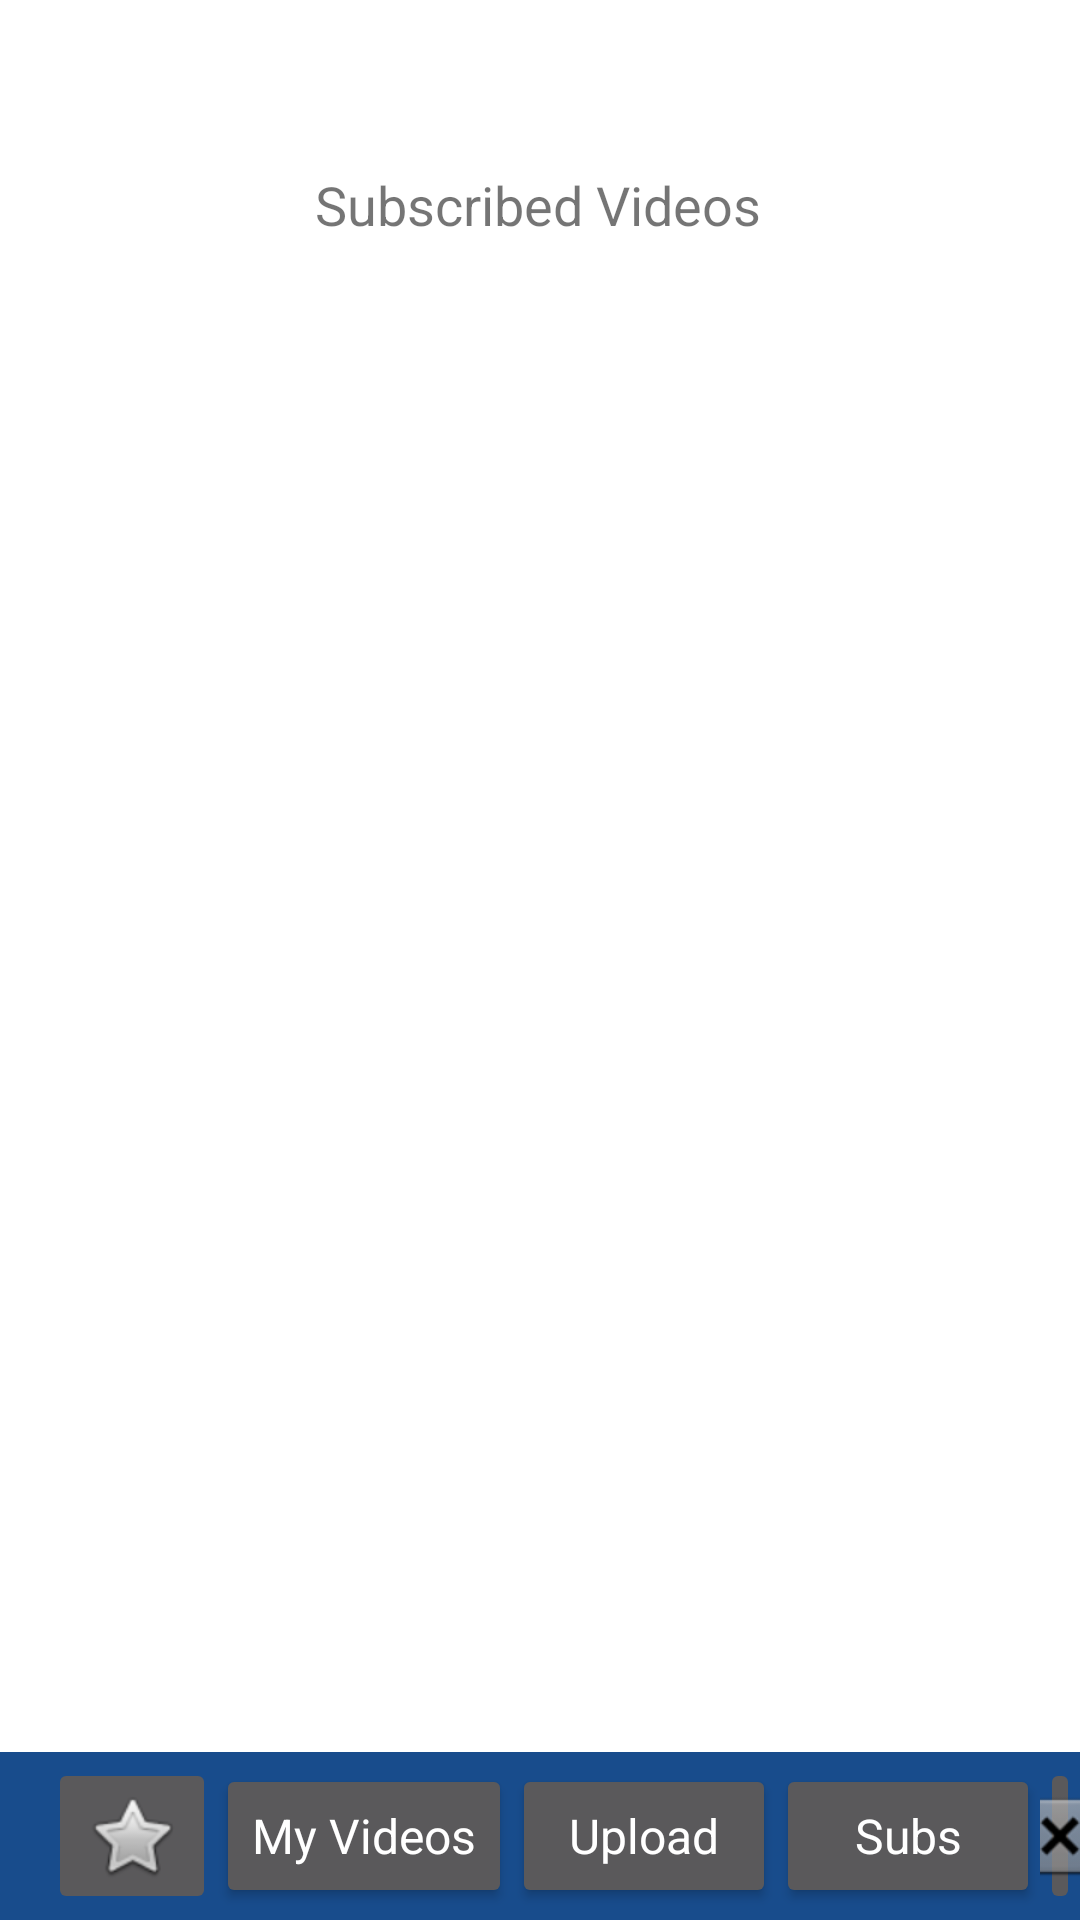

Locate icon controls on the screen. Image size 1080*1920, boxes as (x1,y1,x2,y2).
star: (60,1776,204,1896)
